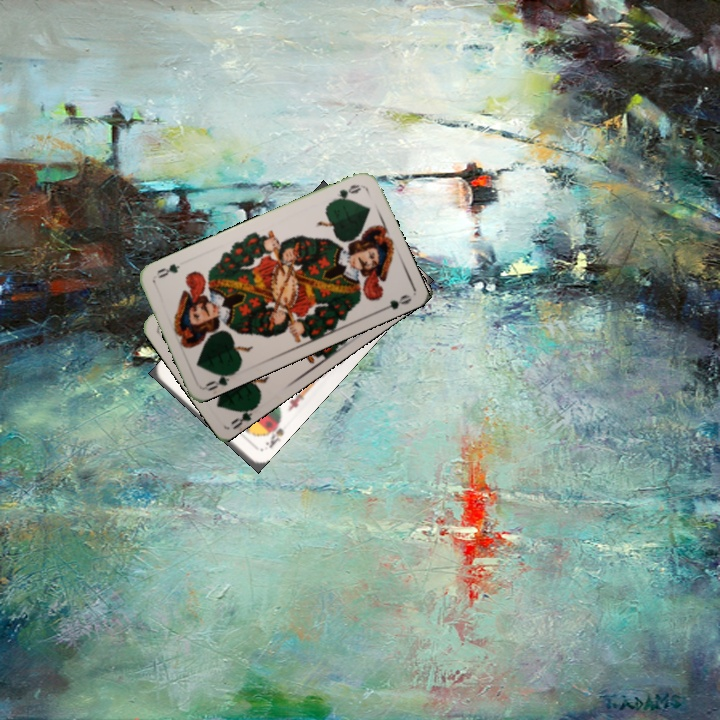GO: (226, 399, 261, 430), (201, 367, 239, 394), (327, 180, 363, 205)
SK: (260, 417, 287, 451)
